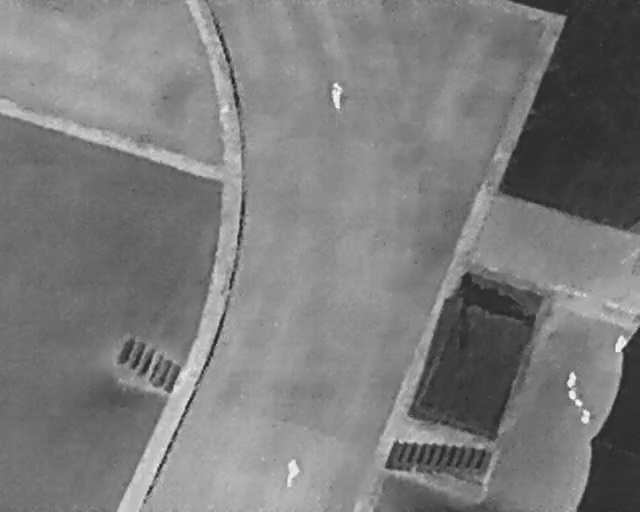Person: (327, 79, 346, 111), (286, 456, 301, 489)
